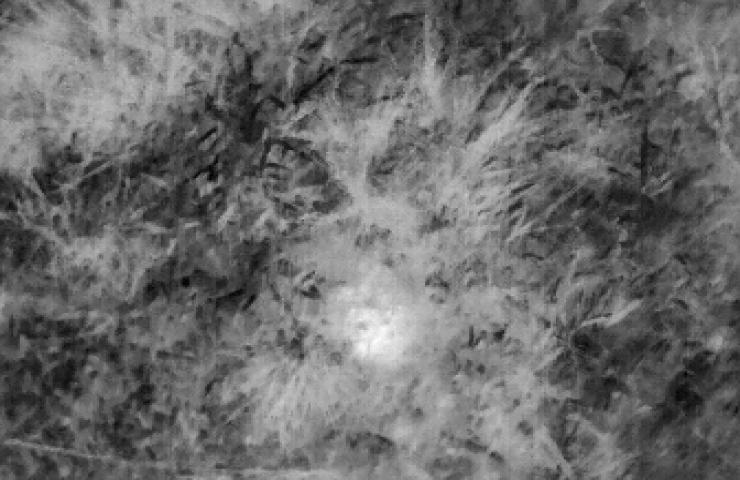landmines: (335, 293, 412, 359)
